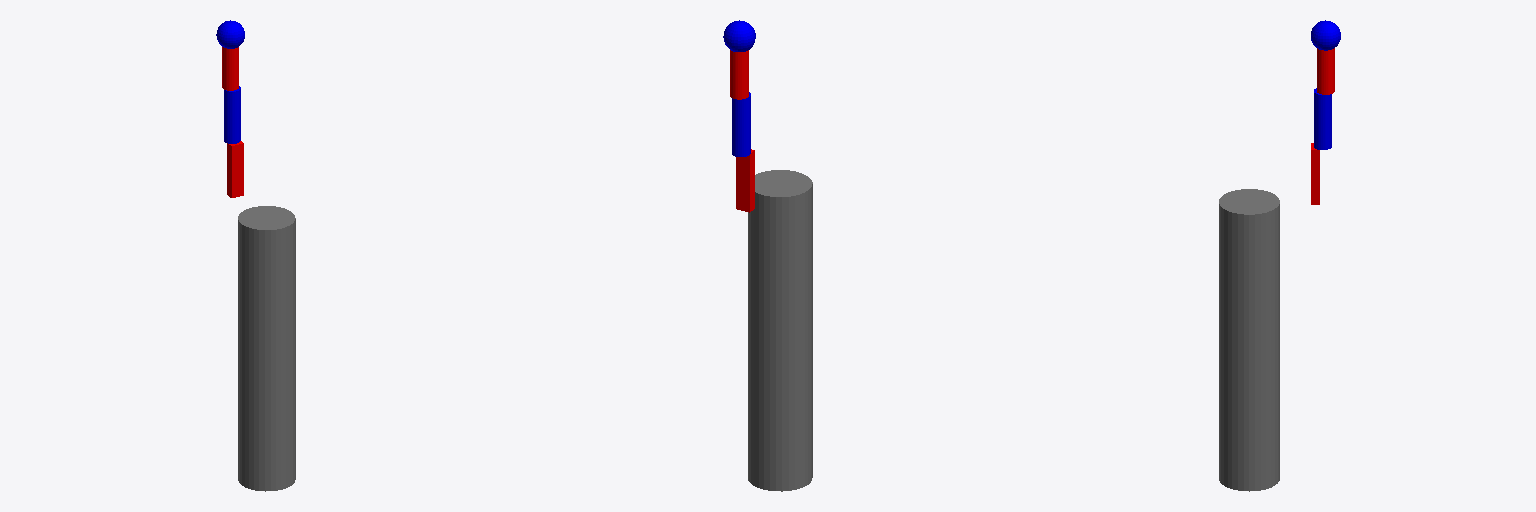
URDF robot description (generated_robot):
<?xml version="1.0"?>
<robot name="generated_robot">
  <mujoco >
    <compiler discardvisual="false"/>
  </mujoco>
  <link name="world"/>
  <joint name="world_to_body" type="fixed">
    <parent link="world"/>
    <child link="body"/>
    <origin xyz="0 0 1.0" rpy="0 0 0"/>
  </joint>
  <link name="body">
    <visual >
      <origin xyz="0 0 -0.5" rpy="0 0 0"/>
      <geometry >
        <cylinder radius="0.1" length="1.0"/>
      </geometry>
      <material name="grey">
        <color rgba="0.5 0.5 0.5 1.0"/>
      </material>
    </visual>
    <inertial >
      <mass value="10.0"/>
      <inertia ixx="0.01" ixy="0" ixz="0" iyy="0.01" iyz="0" izz="0.01"/>
    </inertial>
  </link>
  <joint name="joint_0" type="revolute">
    <parent link="body"/>
    <child link="link_0"/>
    <origin xyz="0.0 0.2 0.0" rpy="0.0000 0.0000 0.0000"/>
    <axis xyz="0 1 0"/>
    <limit lower="-3.1416" upper="3.1416" effort="10" velocity="1"/>
  </joint>
  <link name="link_0">
    <visual >
      <origin xyz="0.0000 0.0150 0.1000" rpy="0 0 0"/>
      <geometry >
        <box size="0.0500 0.0300 0.2000"/>
      </geometry>
      <material name="mat_0">
        <color rgba="1.0 0.0 0.0 1.0"/>
      </material>
    </visual>
    <collision >
      <origin xyz="0.0 0.0 0.0" rpy="0.0000 0.0000 0.0000"/>
      <geometry >
        <cylinder radius="0.05" length="0.2"/>
      </geometry>
    </collision>
    <inertial >
      <mass value="1.0"/>
      <inertia ixx="0.01" ixy="0" ixz="0" iyy="0.01" iyz="0" izz="0.01"/>
    </inertial>
  </link>
  <joint name="joint_1" type="revolute">
    <parent link="link_0"/>
    <child link="link_1"/>
    <origin xyz="0.0 0.03 0.2" rpy="0.0000 0.0000 0.0000"/>
    <axis xyz="0 0 1"/>
    <limit lower="-3.1416" upper="3.1416" effort="10" velocity="1"/>
  </joint>
  <link name="link_1">
    <visual >
      <origin xyz="0.0000 0.0100 0.1000" rpy="0.0000 0.0000 0.0000"/>
      <geometry >
        <cylinder radius="0.0300" length="0.2000"/>
      </geometry>
      <material name="mat_1">
        <color rgba="0.0 0.0 1.0 1.0"/>
      </material>
    </visual>
    <inertial >
      <mass value="1.0"/>
      <inertia ixx="0.01" ixy="0" ixz="0" iyy="0.01" iyz="0" izz="0.01"/>
    </inertial>
  </link>
  <joint name="joint_2" type="revolute">
    <parent link="link_1"/>
    <child link="link_2"/>
    <origin xyz="0.0 0.02 0.2" rpy="0.0000 0.0000 0.0000"/>
    <axis xyz="1 0 0"/>
    <limit lower="-3.1416" upper="3.1416" effort="10" velocity="1"/>
  </joint>
  <link name="link_2">
    <visual >
      <origin xyz="0.0000 0.0000 0.1000" rpy="0.0000 0.0000 0.0000"/>
      <geometry >
        <cylinder radius="0.0300" length="0.2000"/>
      </geometry>
      <material name="mat_2">
        <color rgba="1.0 0.0 0.0 1.0"/>
      </material>
    </visual>
    <inertial >
      <mass value="1.0"/>
      <inertia ixx="0.01" ixy="0" ixz="0" iyy="0.01" iyz="0" izz="0.01"/>
    </inertial>
  </link>
  <joint name="joint_3" type="revolute">
    <parent link="link_2"/>
    <child link="link_3"/>
    <origin xyz="0.0 0.0 0.2" rpy="0.0000 0.0000 0.0000"/>
    <axis xyz="0 1 0"/>
    <limit lower="-3.1416" upper="3.1416" effort="10" velocity="1"/>
  </joint>
  <link name="link_3">
    <visual >
      <origin xyz="0 0 0" rpy="0 0 0"/>
      <geometry >
        <sphere radius="0.05"/>
      </geometry>
      <material name="mat_3">
        <color rgba="0.0 0.0 1.0 1.0"/>
      </material>
    </visual>
    <inertial >
      <mass value="1.0"/>
      <inertia ixx="0.01" ixy="0" ixz="0" iyy="0.01" iyz="0" izz="0.01"/>
    </inertial>
  </link>
</robot>

--- Facts derived from the render (not from the file) ---
The picture shows the robot from 3 angles, left to right: view 1: azimuth 30°, elevation 25°; view 2: azimuth 150°, elevation 25°; view 3: azimuth 270°, elevation 25°; orthographic projection.
Model generated_robot with 6 links and 5 joints (4 revolute, 1 fixed), rooted at world, posed all joints at 0.
Visible links, largest first — view 1: body, link_0, link_1, link_2, link_3; view 2: body, link_1, link_0, link_2, link_3; view 3: body, link_1, link_2, link_3.
Link boxes in pixels (x1=…): body: x1=238, y1=206, x2=295, y2=491; link_0: x1=227, y1=141, x2=243, y2=197; link_1: x1=224, y1=86, x2=240, y2=143; link_2: x1=222, y1=47, x2=238, y2=90; link_3: x1=216, y1=20, x2=244, y2=48; body: x1=748, y1=170, x2=812, y2=491; link_1: x1=732, y1=92, x2=750, y2=156; link_0: x1=736, y1=149, x2=754, y2=212; link_2: x1=730, y1=50, x2=748, y2=99; link_3: x1=723, y1=20, x2=755, y2=51; body: x1=1219, y1=189, x2=1279, y2=491; link_1: x1=1314, y1=88, x2=1331, y2=149; link_2: x1=1317, y1=48, x2=1334, y2=94; link_3: x1=1311, y1=20, x2=1340, y2=50.
Size in the robot's own frame: 0.2 by 0.4 by 1.65 metres.
Geometry: primitives only (box / cylinder / sphere), no mesh files.
